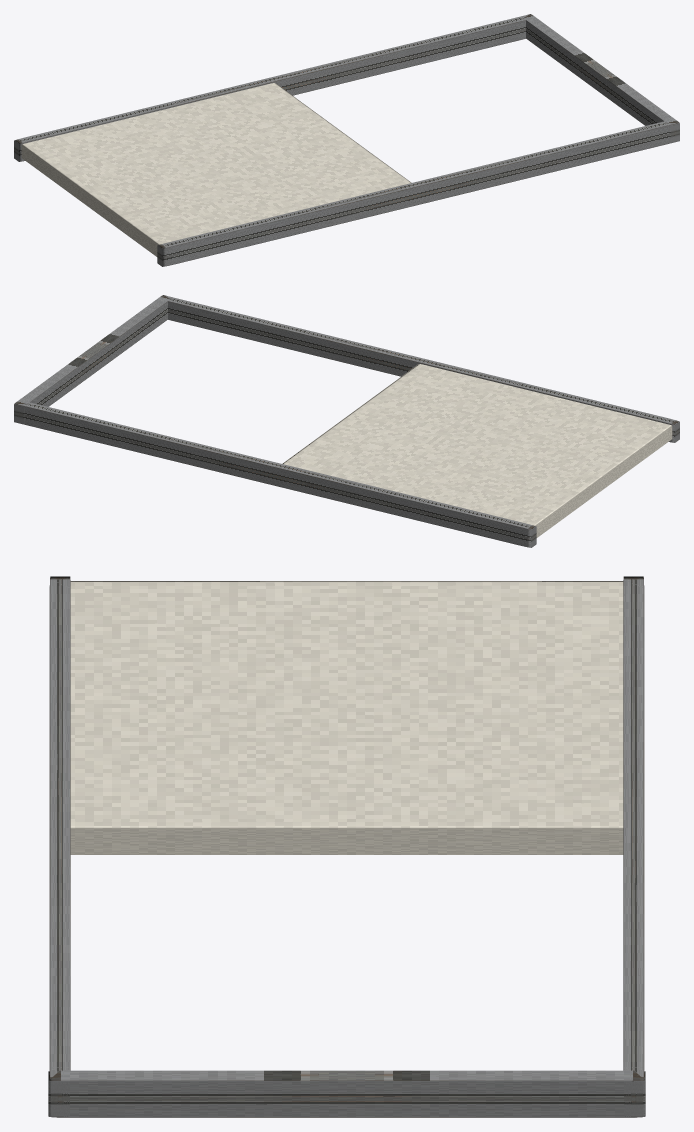
Rendered from cutaway-ceiling.glb.
The picture shows the model from 3 angles, top to bottom: view 1: azimuth 30°, elevation 25°; view 2: azimuth 150°, elevation 25°; view 3: azimuth 270°, elevation 25°; orthographic projection. The views are drawn at different scales.
Visible parts, largest first — view 1: tile, runner (×3); view 2: tile, runner (×3); view 3: tile, runner (×3).
Boxes of the visible parts, bbox=[...] form: tile: bbox=[21, 83, 411, 256]; runner (×3): bbox=[14, 14, 679, 266]; tile: bbox=[282, 364, 672, 537]; runner (×3): bbox=[14, 295, 679, 547]; tile: bbox=[70, 581, 623, 854]; runner (×3): bbox=[48, 576, 645, 1117].
Bounding box in the file's own units: 1.2 × 0.0416 × 0.6.
2 materials, 2 textured.
